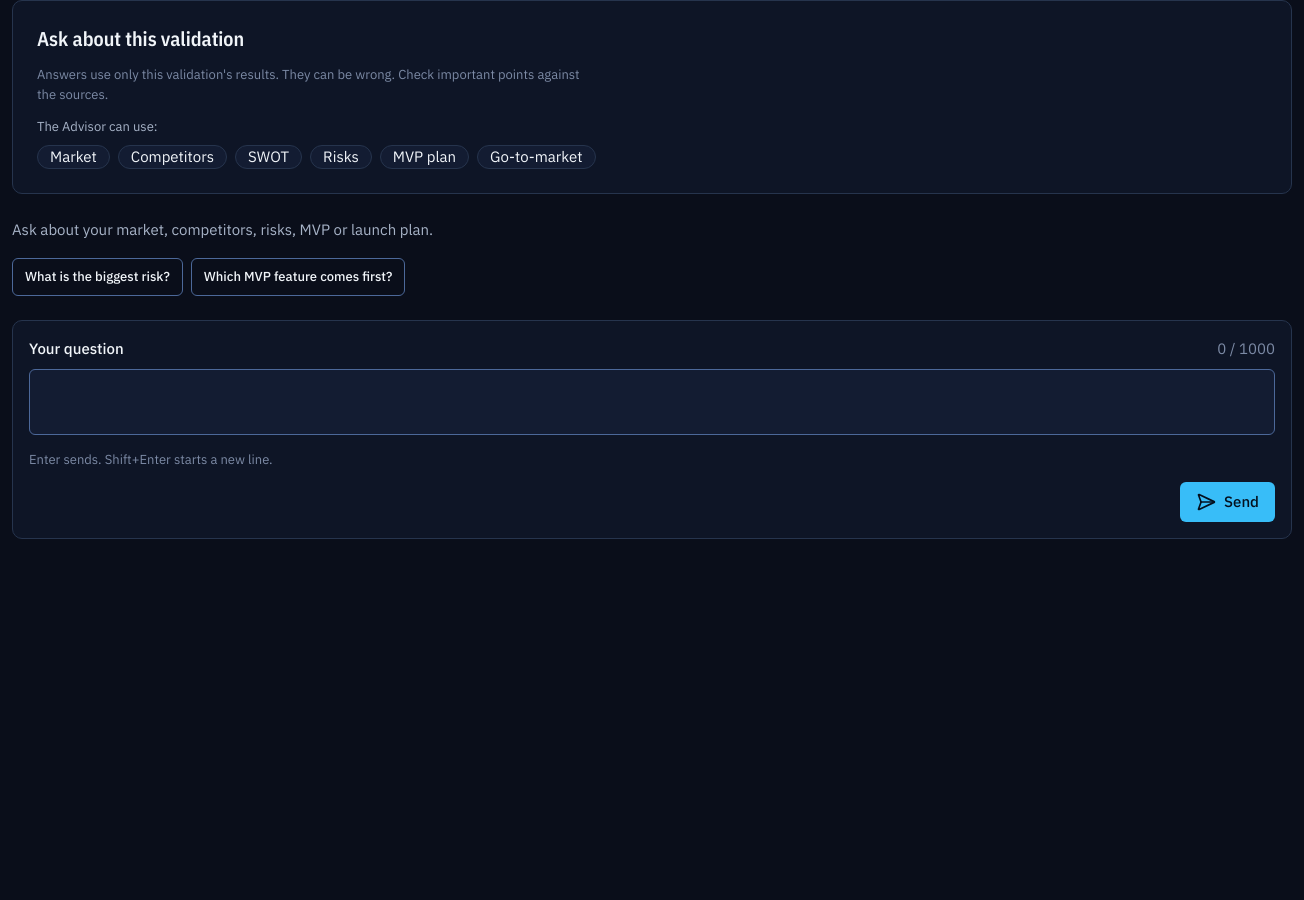
Advisor: header and starter questions › asks a starter question when it is pressed, then shows the answer
Click the button "What is the biggest risk?".
click(97, 277)  # box [12, 258, 183, 296]
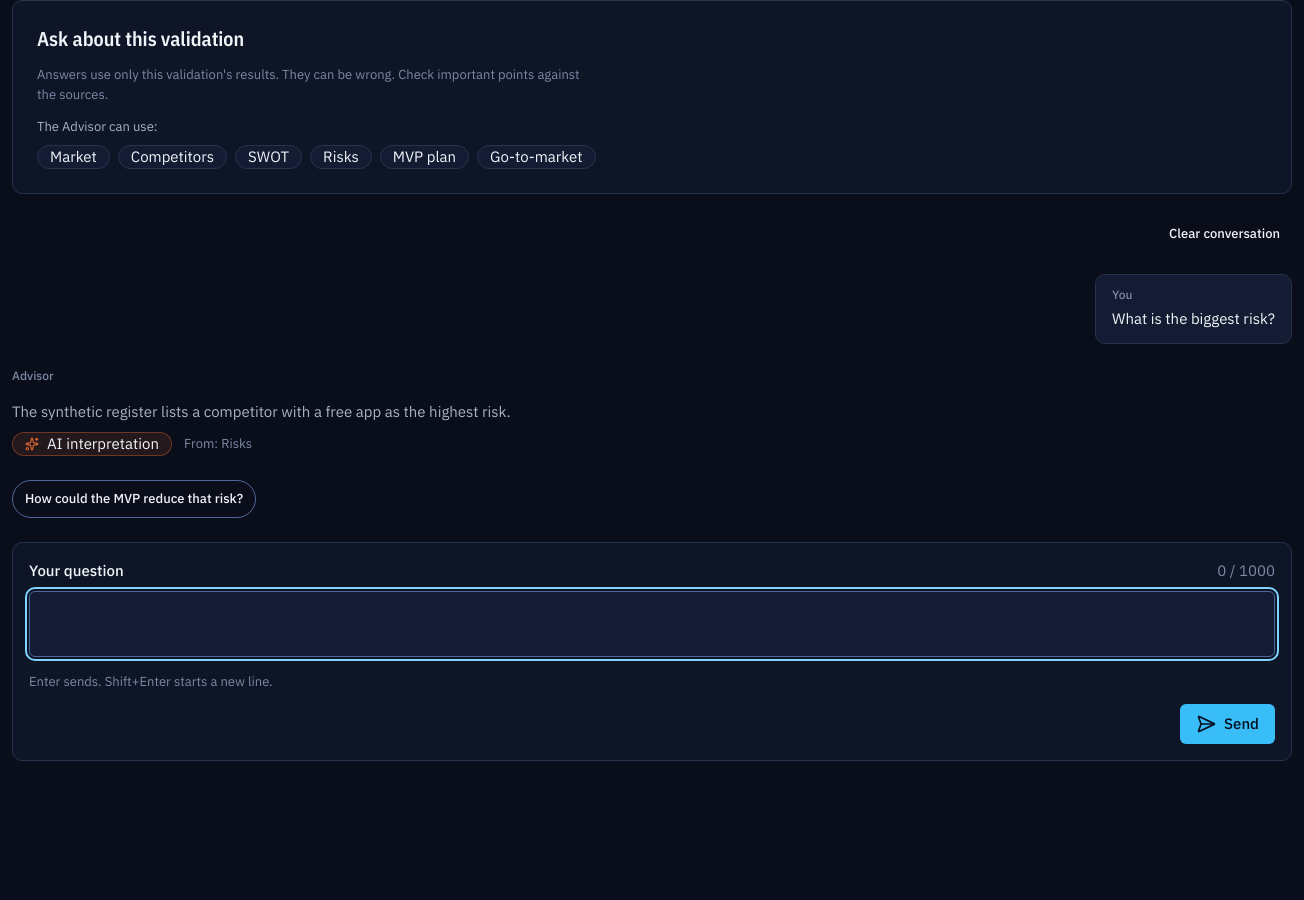
Result: the text "The synthetic register lists a competitor with a free app as the highest risk." is shown at [12, 402, 511, 421]
